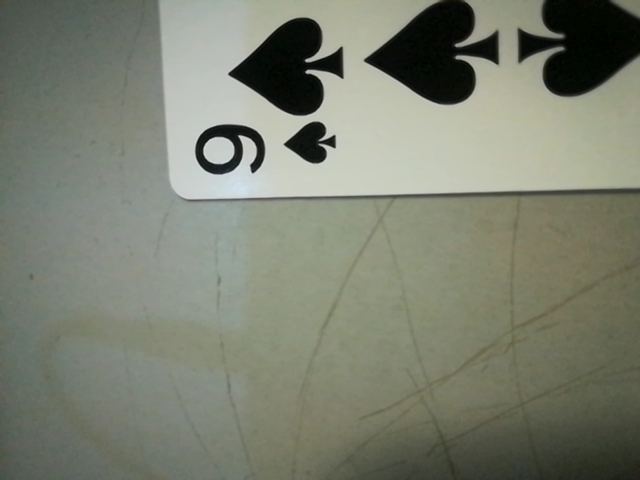ht 9: (178, 107, 346, 194)
